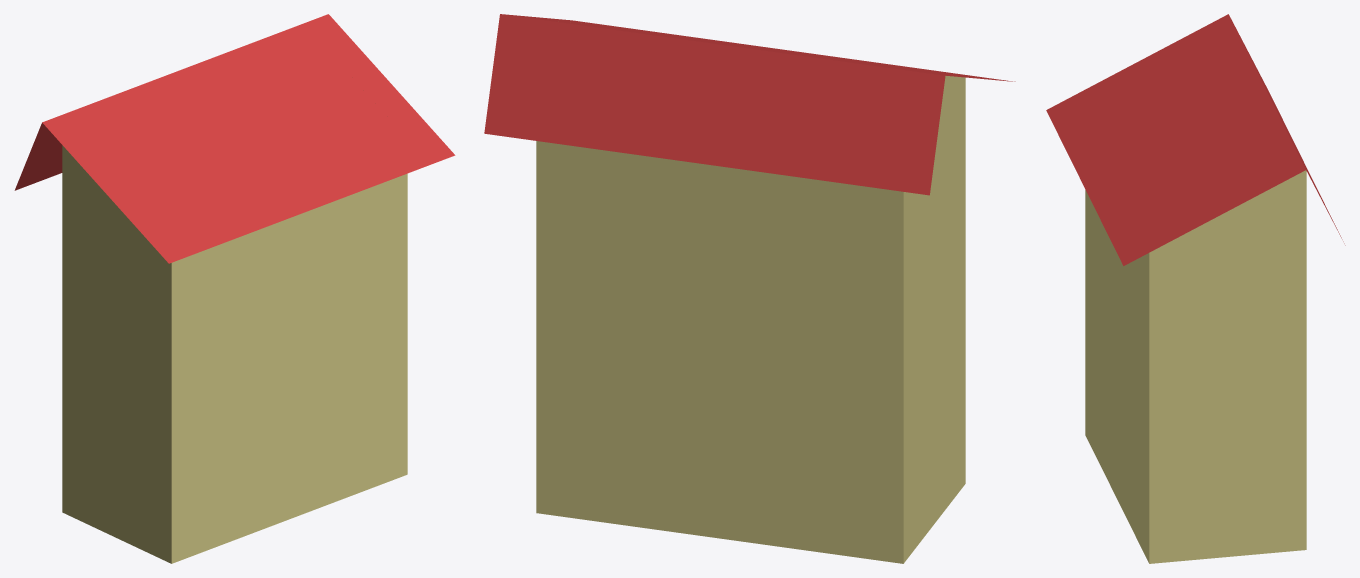
The picture shows the model from 3 angles, left to right: view 1: azimuth 30°, elevation 25°; view 2: azimuth 150°, elevation 25°; view 3: azimuth 270°, elevation 25°; orthographic projection. The views are drawn at different scales.
Size of the model in its own units: 6.25 by 4.5 by 6.54.
